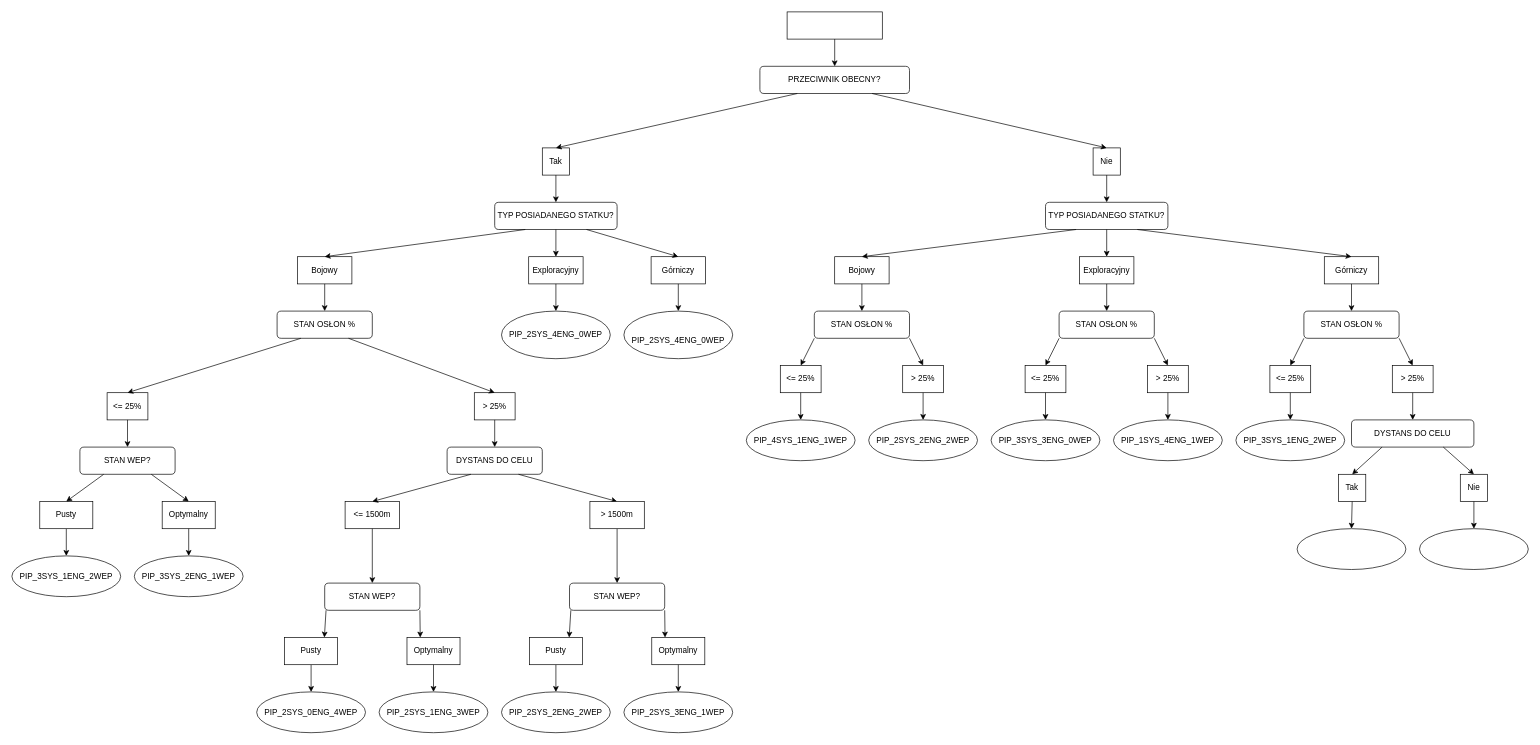
This 1540x745 diagram has some shape labels left out. Here are the shapes that lost their labels. From the top down, the centre of each, then its label:
At point (834, 25): "System alokacji PIP".
At point (1351, 549): "PIP_0SYS_4ENG_2WEP".
At point (1473, 549): "PIP_1SYS_1ENG_4WEP".
